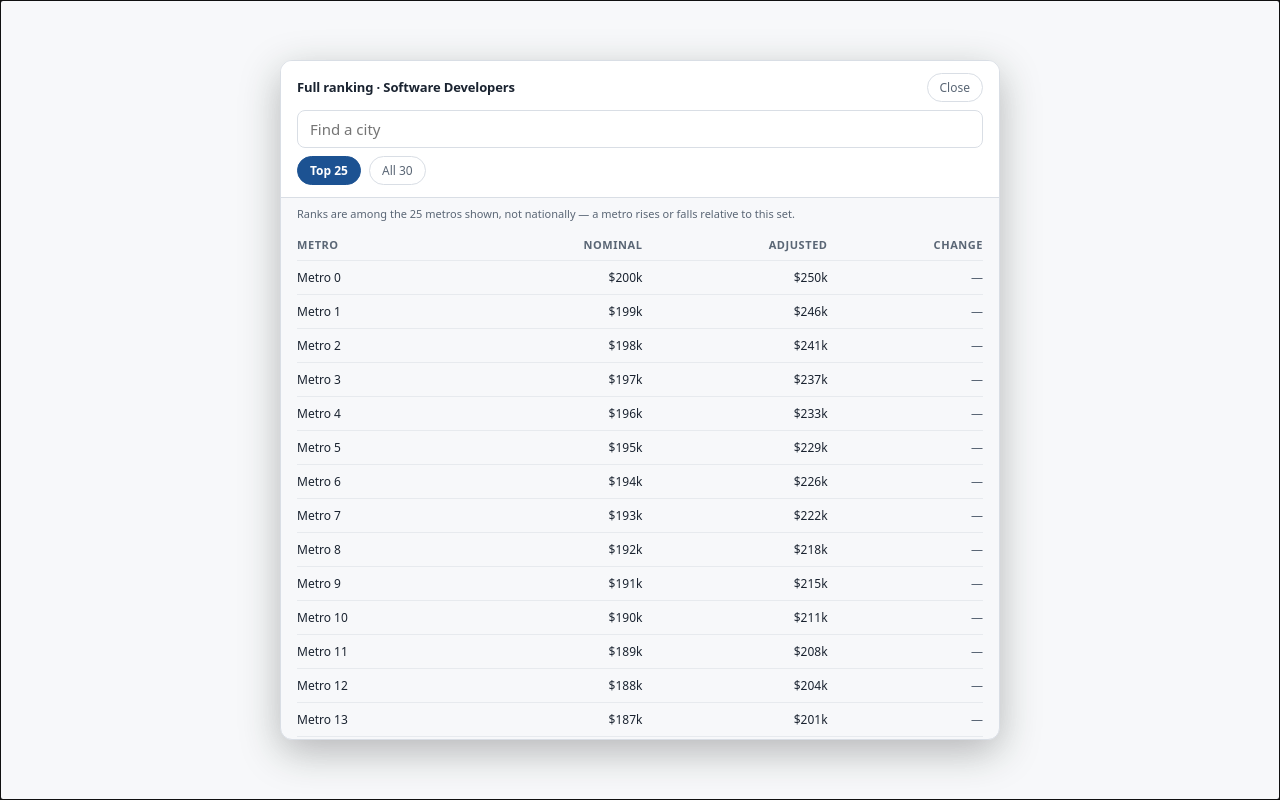
SlopeExplorer › a metro with no cost-of-living index is explained, not silently ignored
Type "Norpp" into the search field.
click(640, 129); type("Norpp")  # box [297,110,983,148]
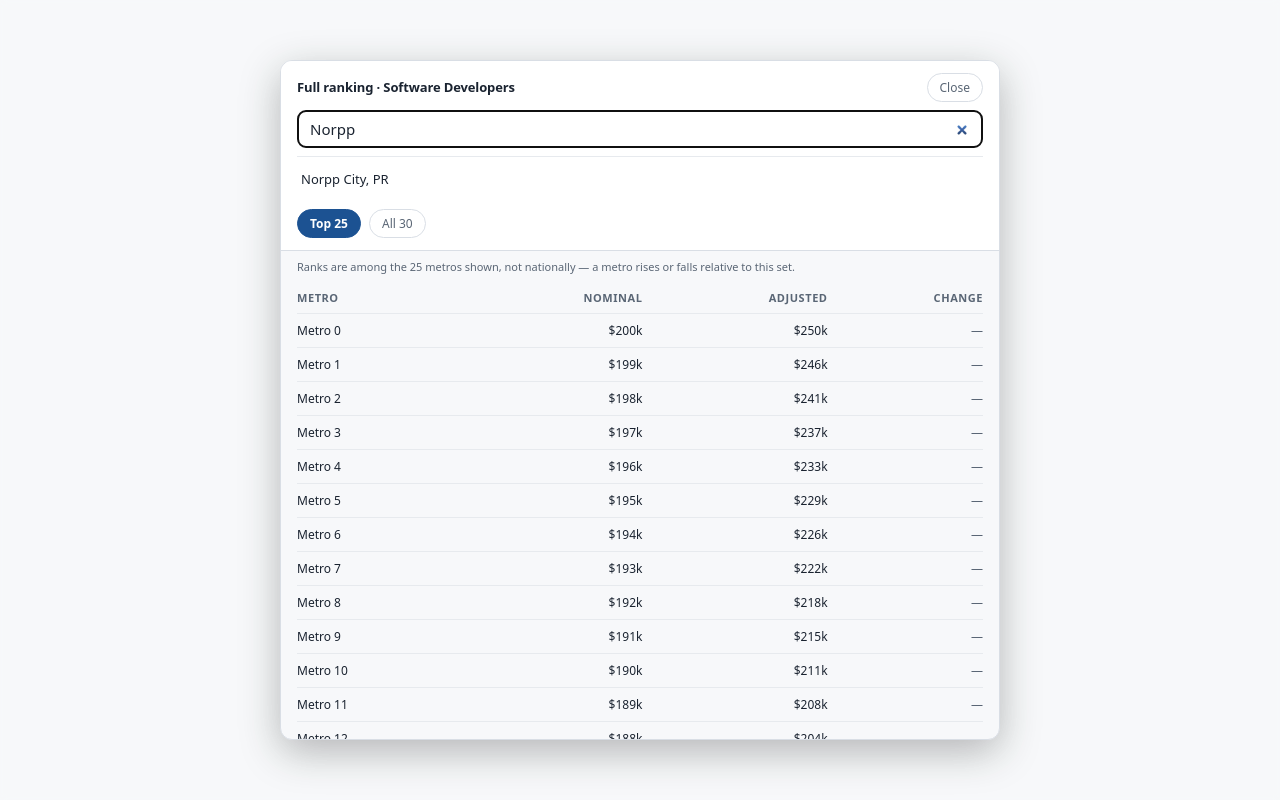
Click the button "Norpp City, PR".
click(345, 179)  # box [297,157,983,201]
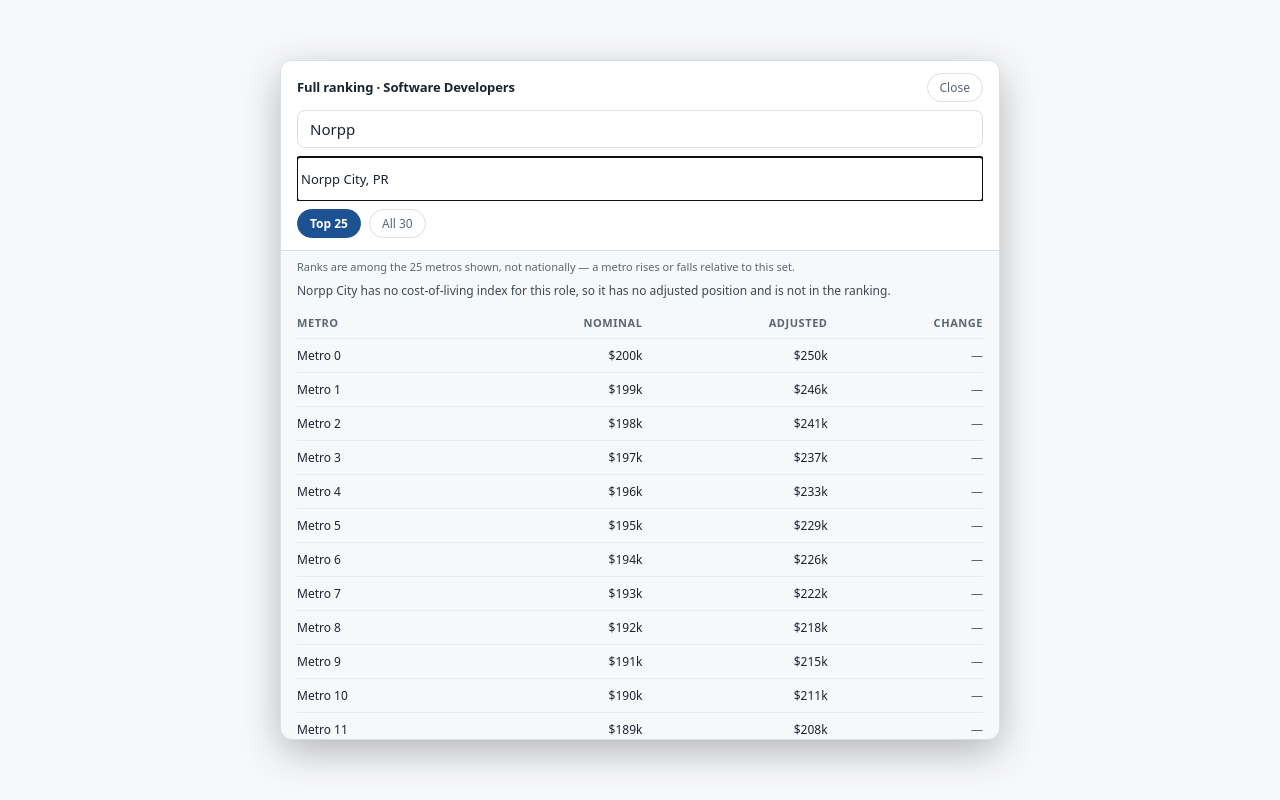
Check: the text with class "sx-note" shows "Norpp", box [297,282,357,299]
Check: the text with class "sx-note" shows "no cost-of-living index", box [357,282,891,299]
